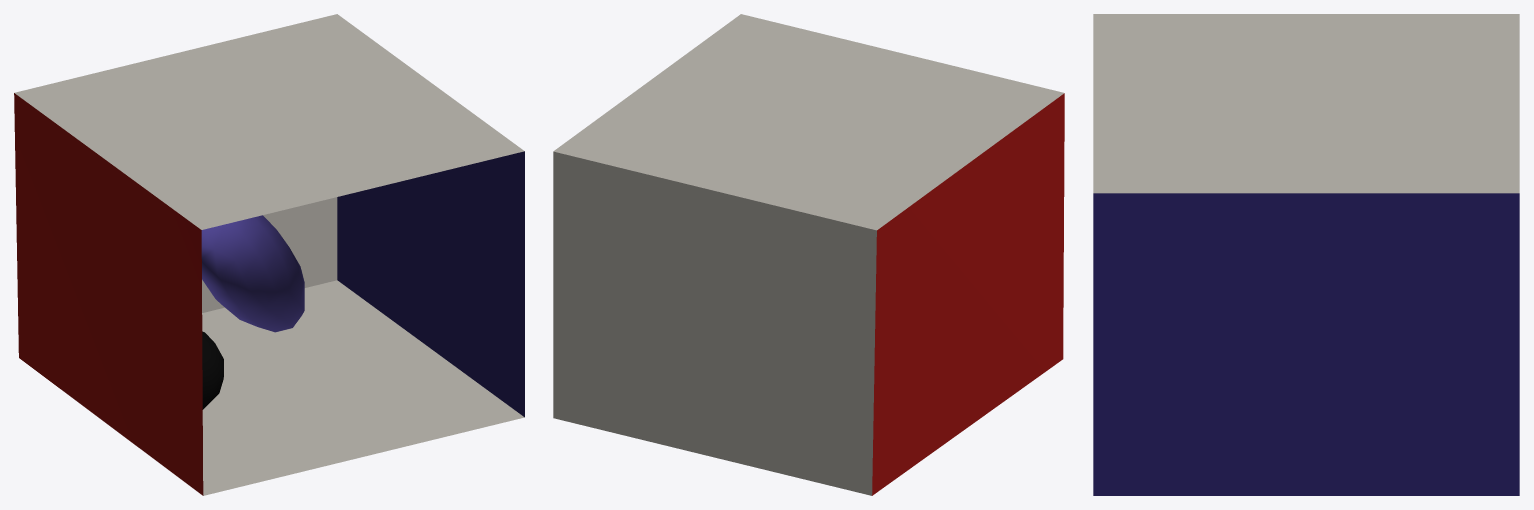
The model's file is CornellBox-Ellipsoid-253.obj.
3 views of the same model, side by side, from view 1: azimuth 30°, elevation 25°; view 2: azimuth 150°, elevation 25°; view 3: azimuth 270°, elevation 25° (orthographic). The views are drawn at different scales.
Visible parts, largest first — view 1: ceiling, leftWall, floor, rightWall, leftSphere, backWall, rightSphere; view 2: backWall, ceiling, leftWall; view 3: rightWall, ceiling.
Boxes of the visible parts, x1,y1,x2,y2 form: ceiling: [14, 14, 524, 229]; leftWall: [14, 93, 203, 495]; floor: [202, 280, 524, 495]; rightWall: [337, 151, 524, 417]; leftSphere: [201, 215, 304, 332]; backWall: [202, 197, 337, 312]; rightSphere: [202, 331, 223, 409]; backWall: [553, 151, 876, 495]; ceiling: [553, 14, 1064, 230]; leftWall: [872, 93, 1064, 495]; rightWall: [1093, 193, 1519, 495]; ceiling: [1093, 14, 1519, 193].
Size of the model in its own units: 2.02 by 1.59 by 2.03.
